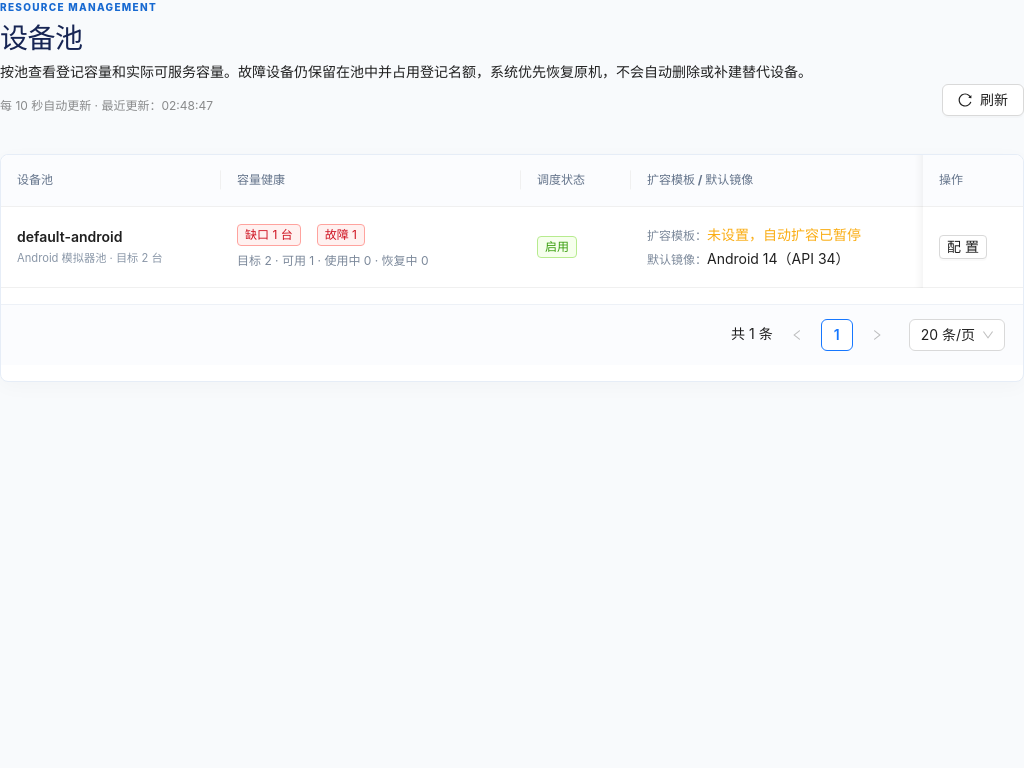
Test: PoolsPage pool capacity › does not count an unhealthy busy device as serviceable capacity
Expected: the text "default-android" is shown, [17,228,122,245]
Click the button "配 置" at (963, 247), box [939,235,987,259]
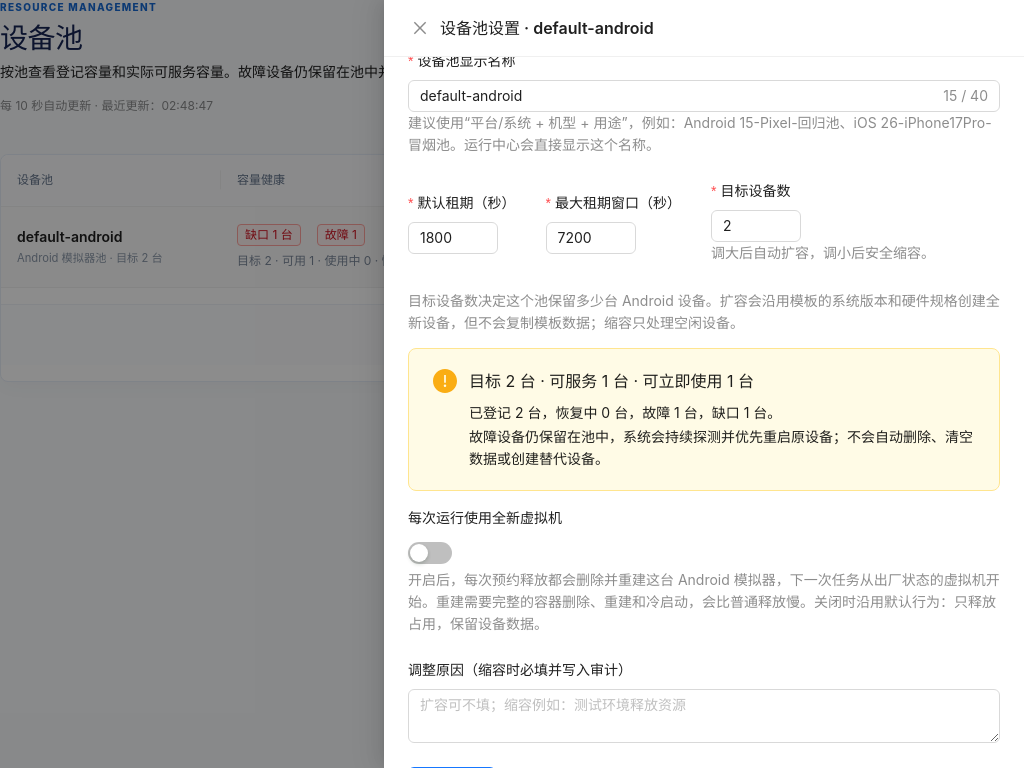
Now the number field labelled "目标设备数" holds "2", box [712,211,800,241]
Now the text "目标 2 台 · 可服务 1 台 · 可立即使用 1 台" is shown, box [469,371,754,391]
Now the text "已登记 2 台，恢复中 0 台，故障 1 台，缺口 1 台。" is shown, box [469,404,781,421]
